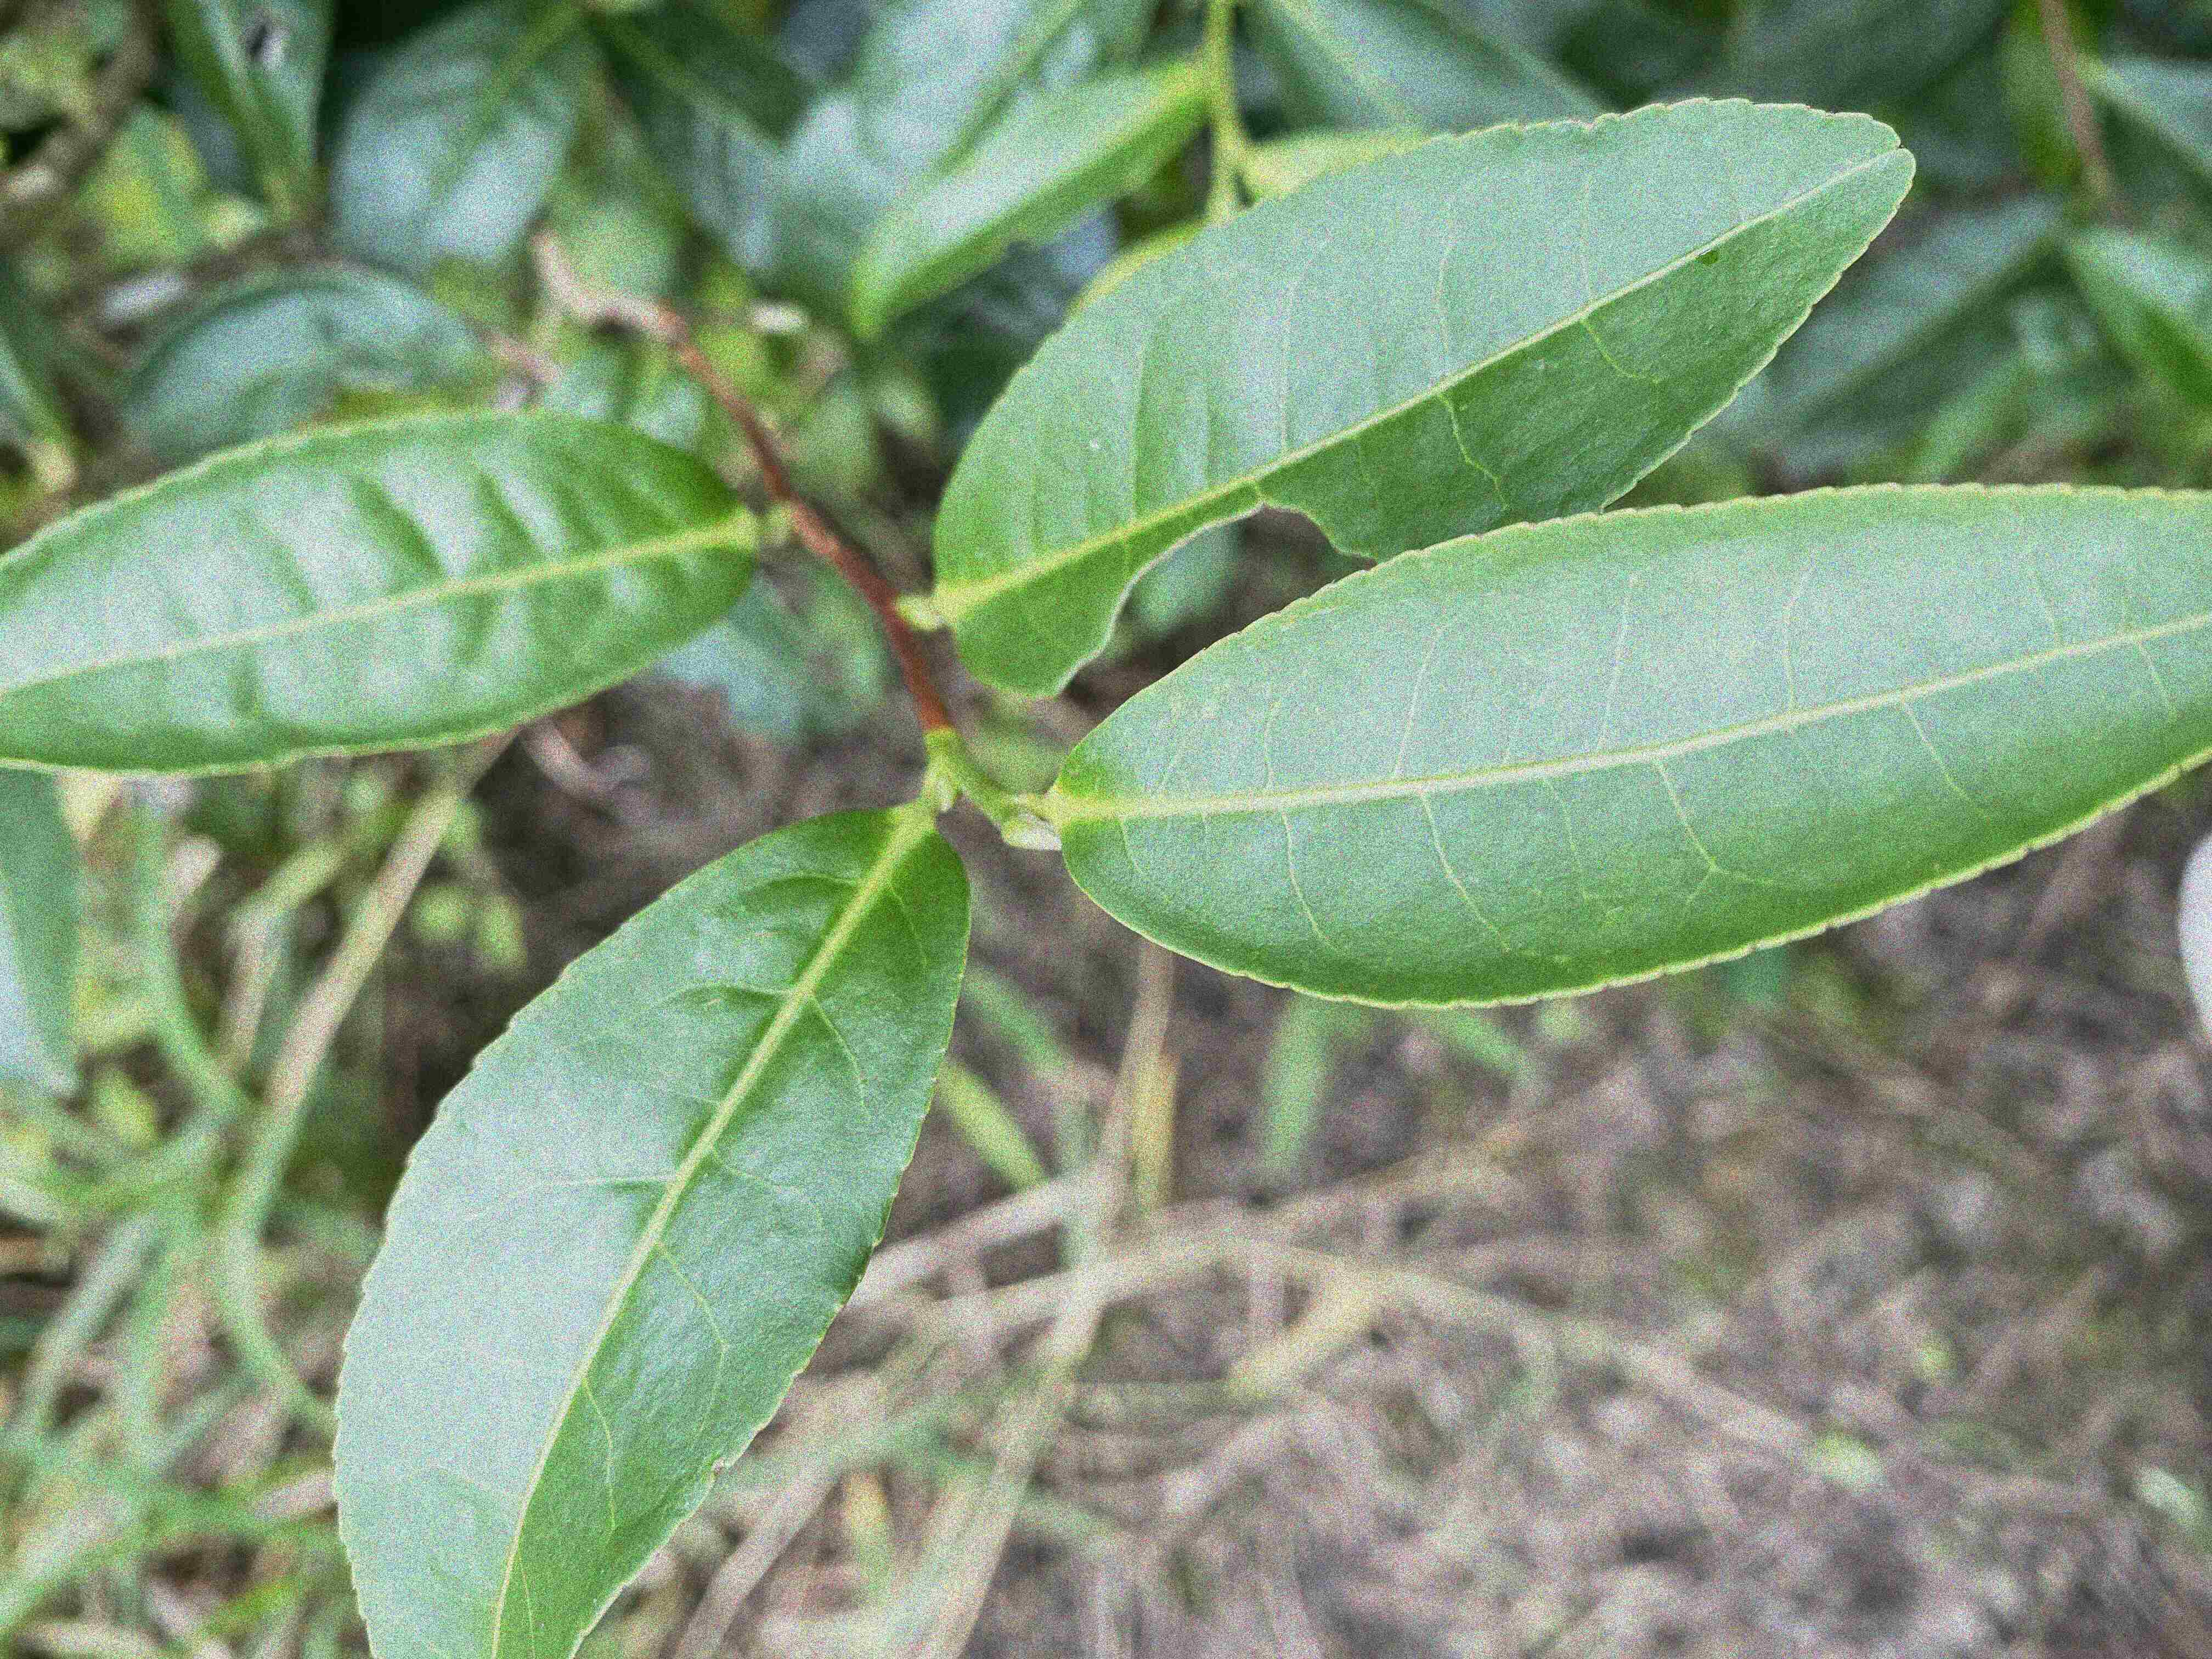chihuo_low: (930, 96, 1918, 699)
healthy: (1049, 477, 2210, 1012), (327, 805, 970, 1657), (2, 413, 763, 784)
